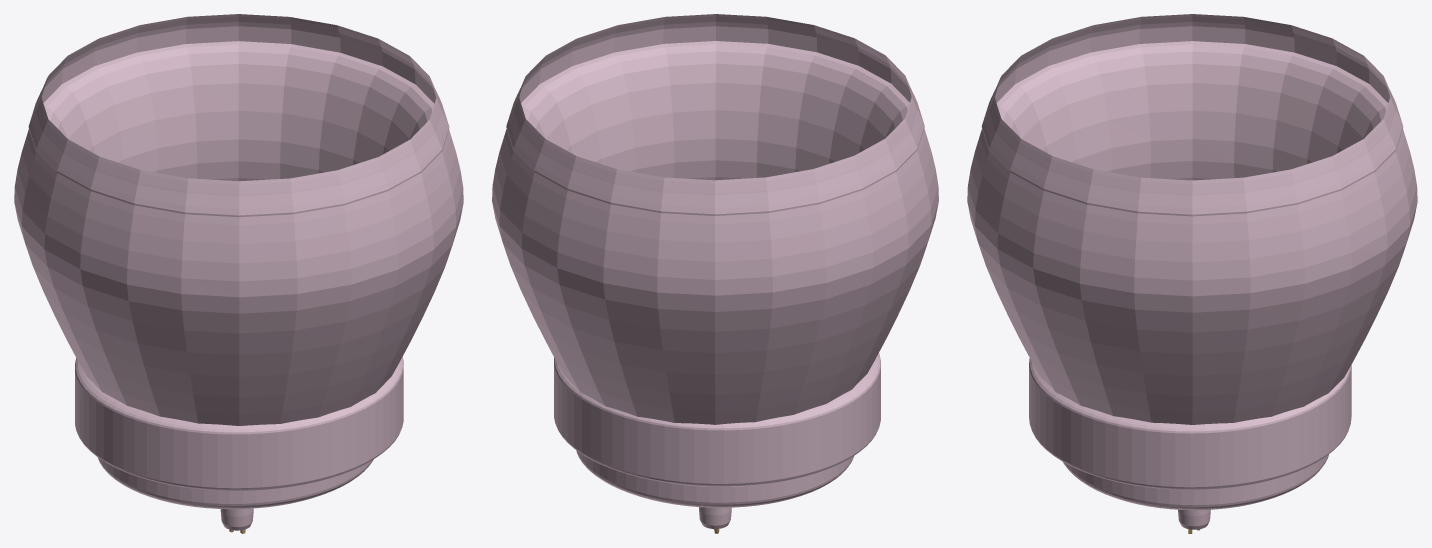
Rendered from cup.glb.
3 renders of one model, left to right at view 1: azimuth 30°, elevation 25°; view 2: azimuth 150°, elevation 25°; view 3: azimuth 270°, elevation 25°, orthographic.
Visible parts, largest first — view 1: Mesh_Mesh_head_geo.001_lambert2SG.001; view 2: Mesh_Mesh_head_geo.001_lambert2SG.001; view 3: Mesh_Mesh_head_geo.001_lambert2SG.001.
Part boxes in pixels (box(x1,y1,x2,y2)): Mesh_Mesh_head_geo.001_lambert2SG.001: box(14, 14, 463, 533); Mesh_Mesh_head_geo.001_lambert2SG.001: box(492, 14, 938, 533); Mesh_Mesh_head_geo.001_lambert2SG.001: box(967, 14, 1417, 533).
Bounding box in the file's own units: 54.23 × 58 × 54.46.
